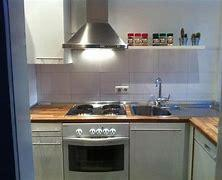cabinet_door: (129, 123, 186, 180), (24, 0, 63, 63), (31, 134, 64, 180), (30, 124, 63, 134)
handle: (62, 136, 130, 144), (129, 126, 184, 133), (31, 140, 62, 147), (34, 55, 64, 62), (31, 128, 61, 134)
